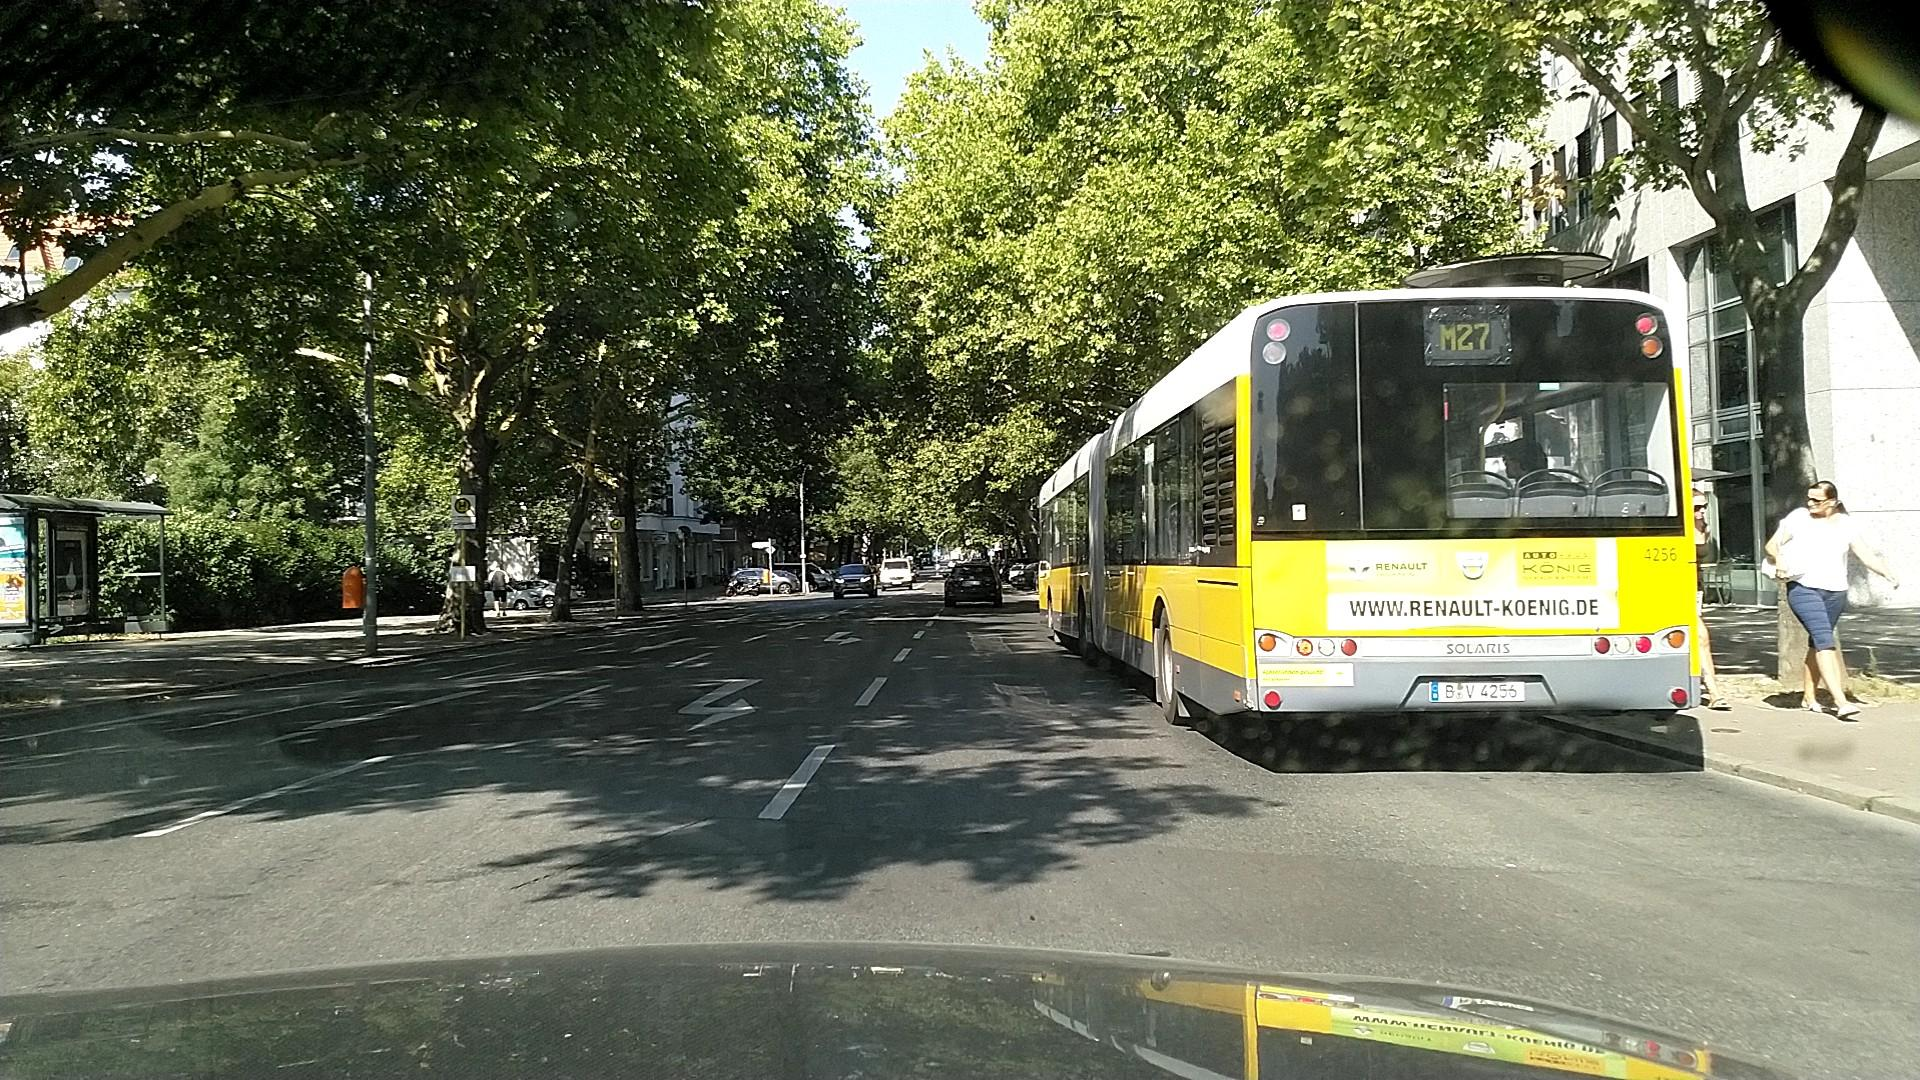Human face: (1503, 442, 1542, 479), (1805, 487, 1836, 520), (1686, 490, 1711, 525)
Vehicle registration plate: (1428, 678, 1524, 702)
